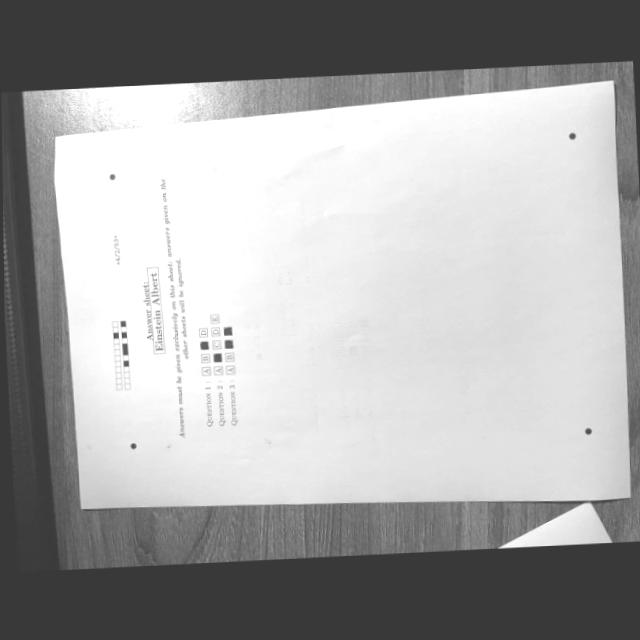Markers: (569, 131, 576, 139), (584, 427, 592, 434), (130, 442, 136, 448), (109, 173, 115, 179)
